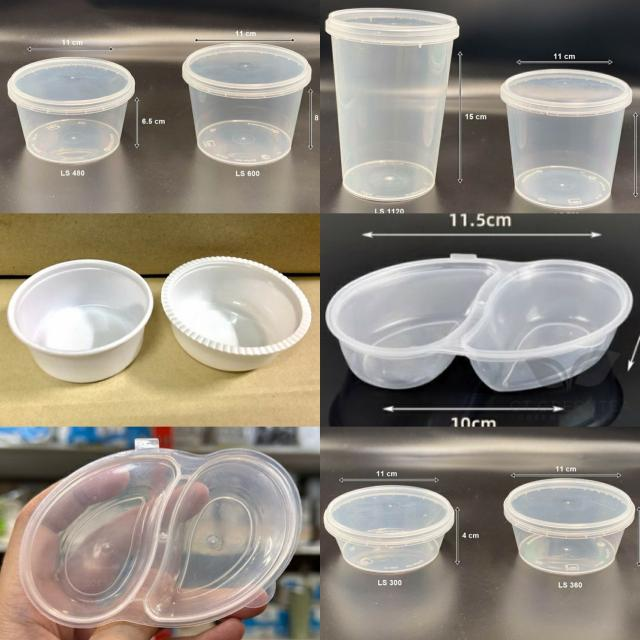Single-Use-Plastic: (19, 441, 300, 627), (325, 256, 633, 391), (325, 8, 459, 201), (500, 70, 632, 208), (8, 260, 153, 382), (161, 256, 311, 371), (183, 42, 311, 166), (8, 58, 135, 165), (504, 479, 634, 575), (324, 485, 454, 572)
